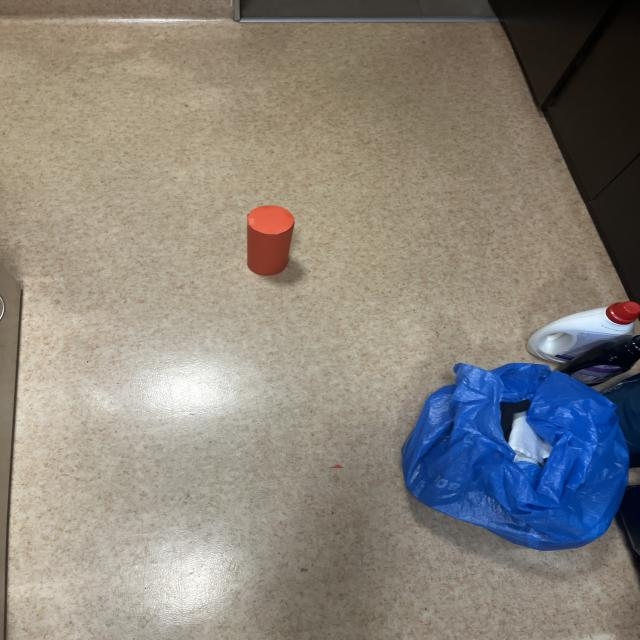przeszkoda: (247, 206, 294, 275)
